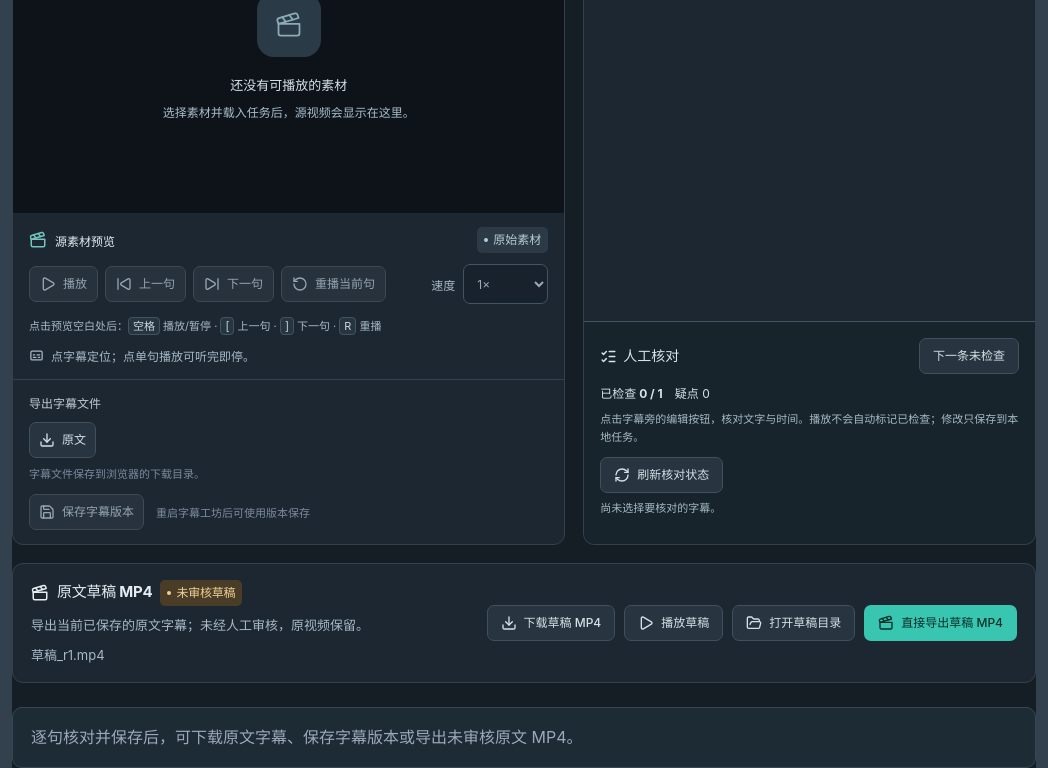
it: direct video download controls › downloads the current original draft in the review layout
(page scrolled)
Click the button "下载草稿 MP4" at coordinates (551, 623), box [486,605,615,641]
(page scrolled)
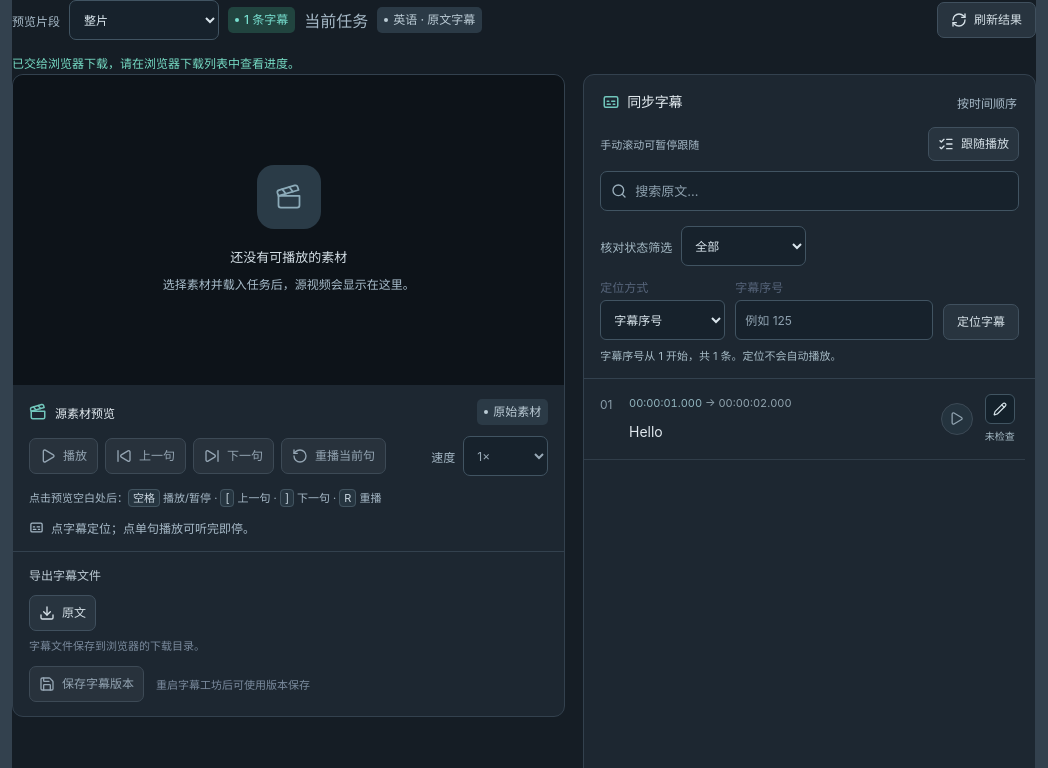
Result: the text "已交给浏览器下载，请在浏览器下载列表中查看进度。" is shown at [12,56,300,71]
